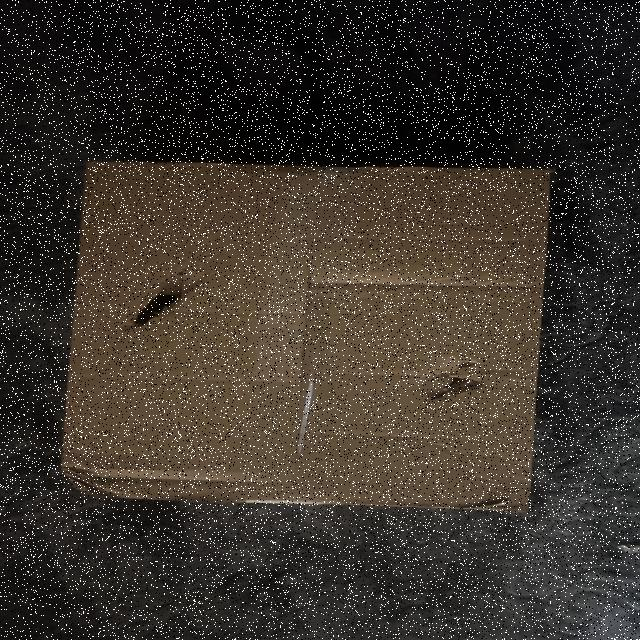damaged: (62, 157, 550, 517), (116, 249, 206, 344), (412, 344, 506, 412), (45, 449, 141, 514)
